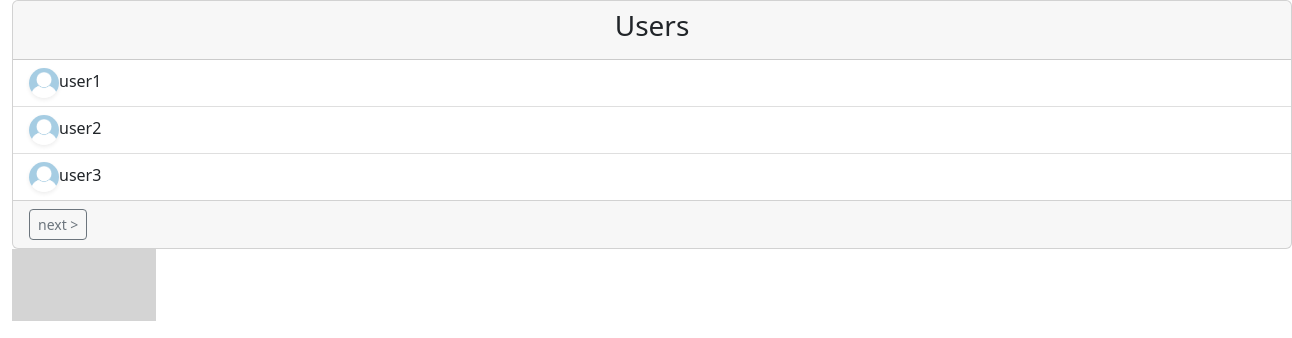
Scenario: User List › Interactions › hides next link on last page
Expected: the link "user1" is shown, [13,60,1291,107]
Click the button "next >".
click(58, 224)  # box [29,209,87,240]
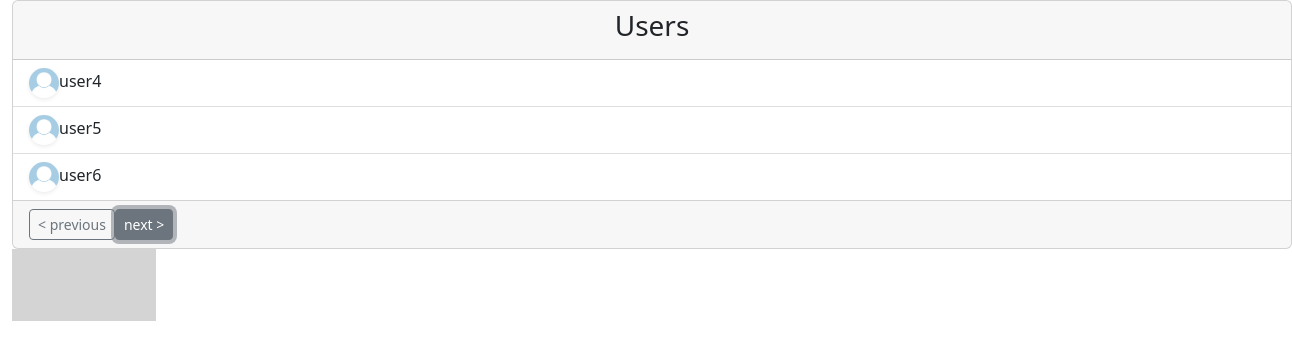
Now the link "user4" is shown, box [13,60,1291,107]
Click the button "next >".
click(144, 224)  # box [115,209,173,240]
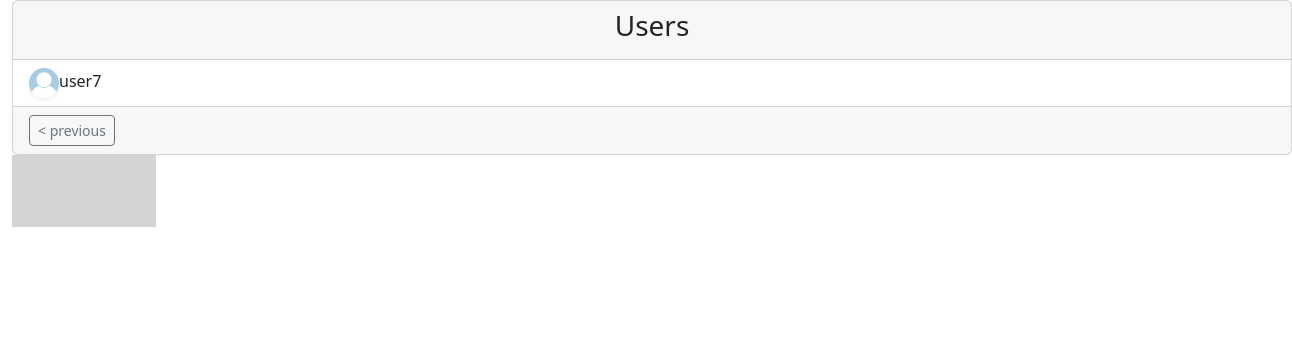
Now the link "user7" is shown, box [13,60,1291,106]
Now the button "next >" is gone
